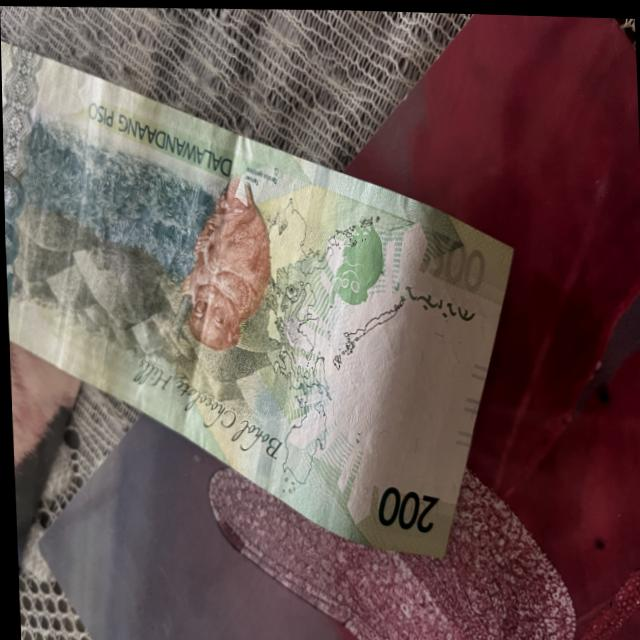200_tarsier: (151, 151, 287, 386)
200_tarsier_watermark: (320, 206, 388, 312)
